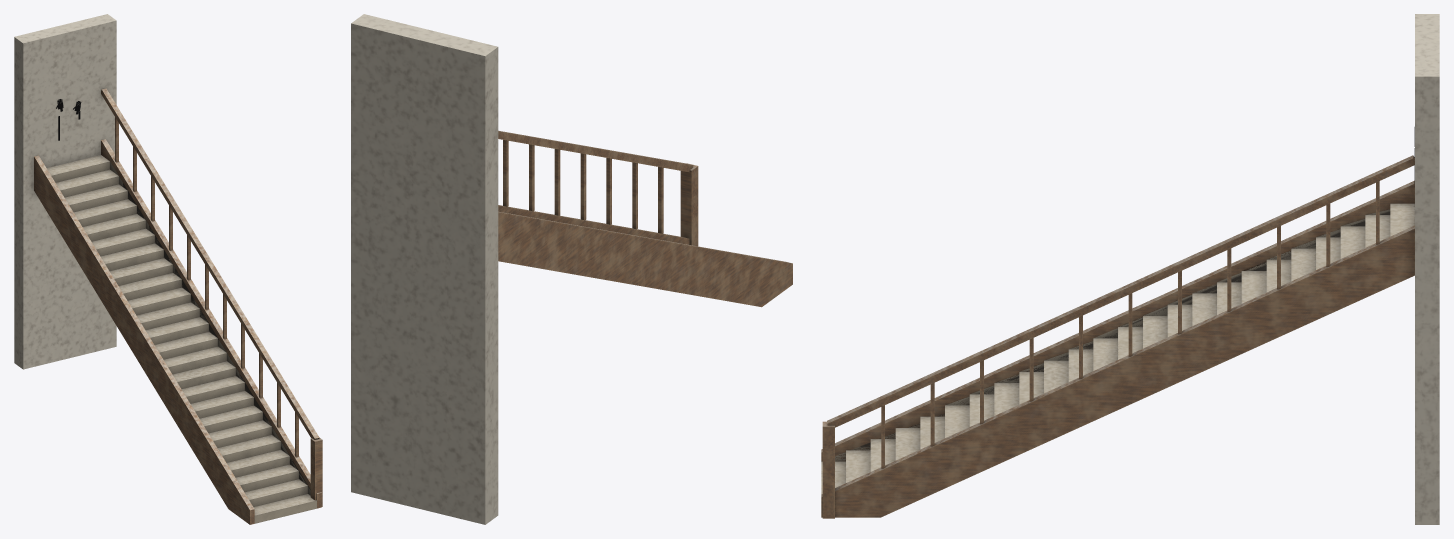
The model's file is stairs_to_wall.fbx.
3 views of the same model, side by side, from view 1: azimuth 30°, elevation 25°; view 2: azimuth 150°, elevation 25°; view 3: azimuth 270°, elevation 25° (orthographic). The views are drawn at different scales.
Parts seen in each view (by area): view 1: Body; view 2: Body; view 3: Body.
Boxes of the visible parts, bbox=[...] form: Body: bbox=[14, 14, 322, 524]; Body: bbox=[351, 14, 792, 524]; Body: bbox=[821, 14, 1439, 524].
Bounding box in the file's own units: 6 × 20 × 25.
1 material, 1 textured.
